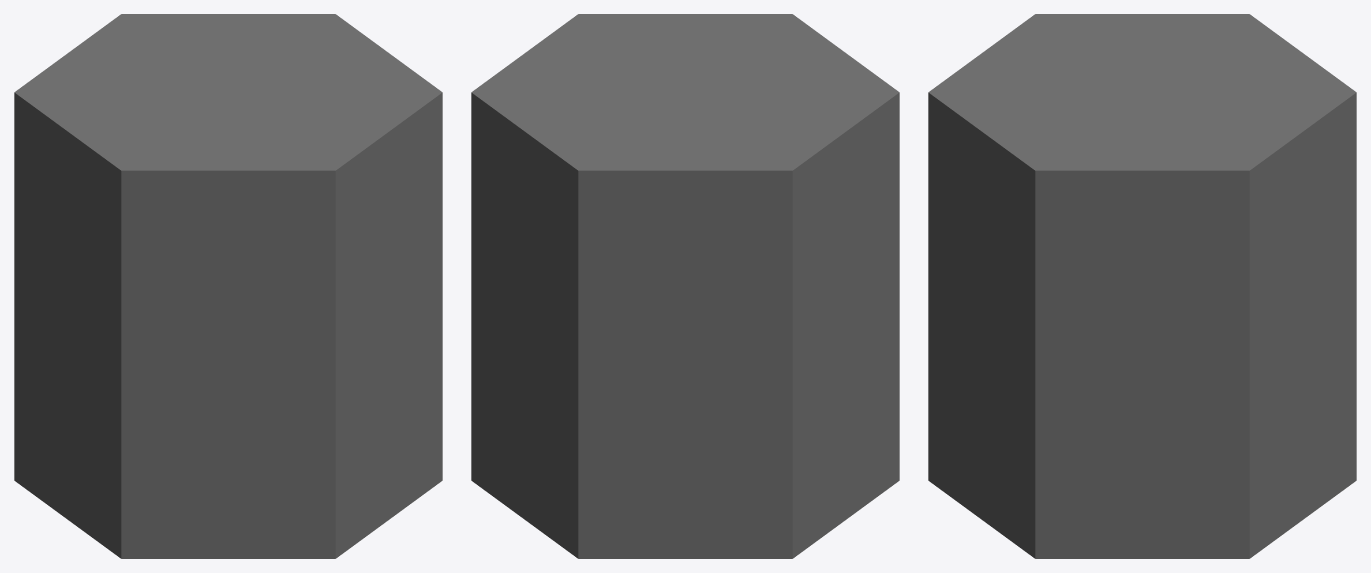
The model's file is prism1-6.obj.
The picture shows the model from 3 angles, left to right: view 1: azimuth 30°, elevation 25°; view 2: azimuth 150°, elevation 25°; view 3: azimuth 270°, elevation 25°; orthographic projection.
Visible parts, largest first — view 1: 锥体_锥体.001; view 2: 锥体_锥体.001; view 3: 锥体_锥体.001.
Boxes of the visible parts, x1,y1,x2,y2 form: 锥体_锥体.001: (14,14,442,558); 锥体_锥体.001: (471,14,899,558); 锥体_锥体.001: (928,14,1356,558).
Size of the model in its own units: 0.866 by 1 by 1.
